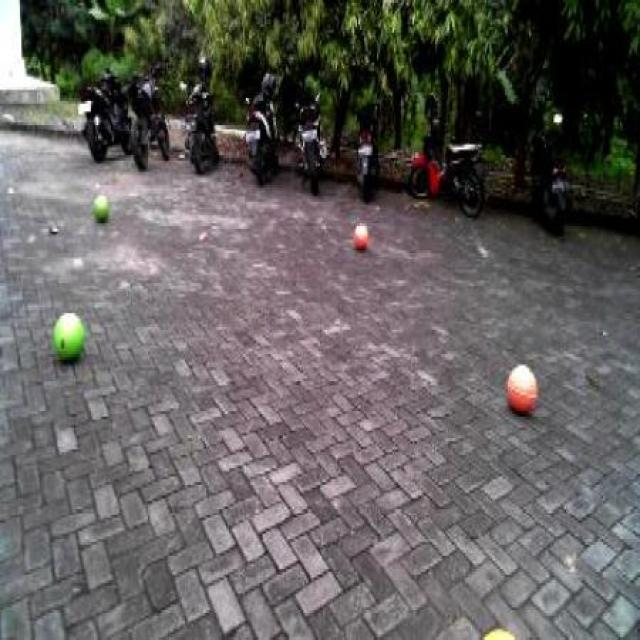buoy: (502, 353, 540, 424), (53, 302, 85, 371)
